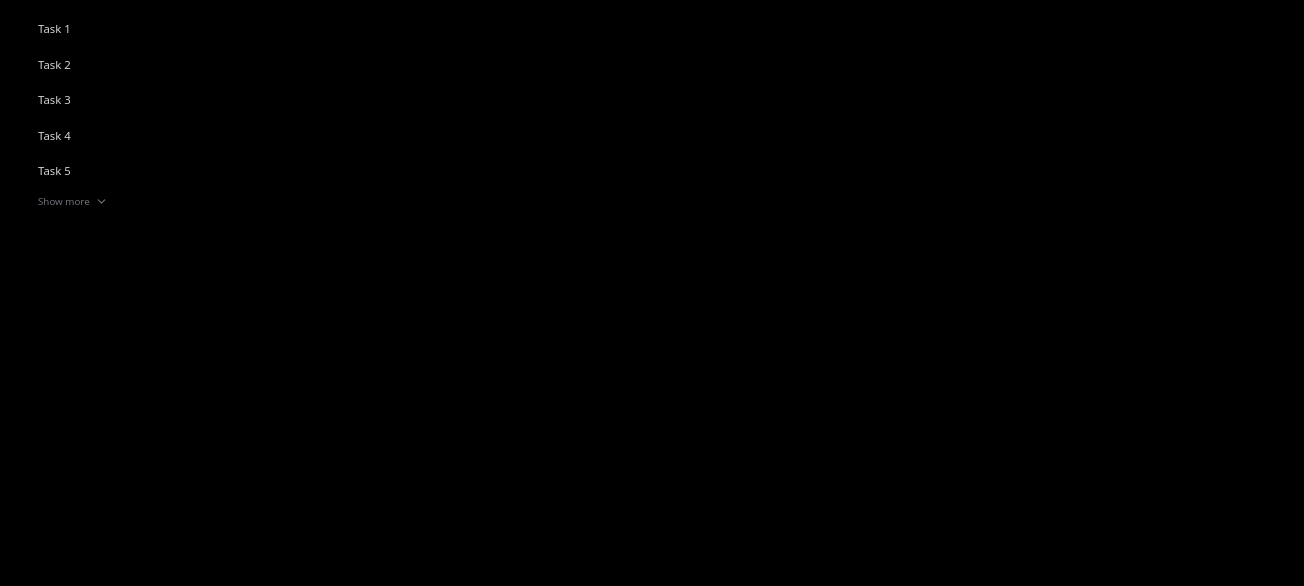
TaskList progressive loading › starts with five tasks and reveals ten more per click
Expected: the number of options is 5, x1=12 y1=12 x2=1292 y2=46; x1=12 y1=48 x2=1292 y2=82; x1=12 y1=83 x2=1292 y2=117; x1=12 y1=119 x2=1292 y2=153; x1=12 y1=154 x2=1292 y2=188
Step 1. Click the button "Show more" → [63, 202], box x1=12 y1=190 x2=114 y2=213
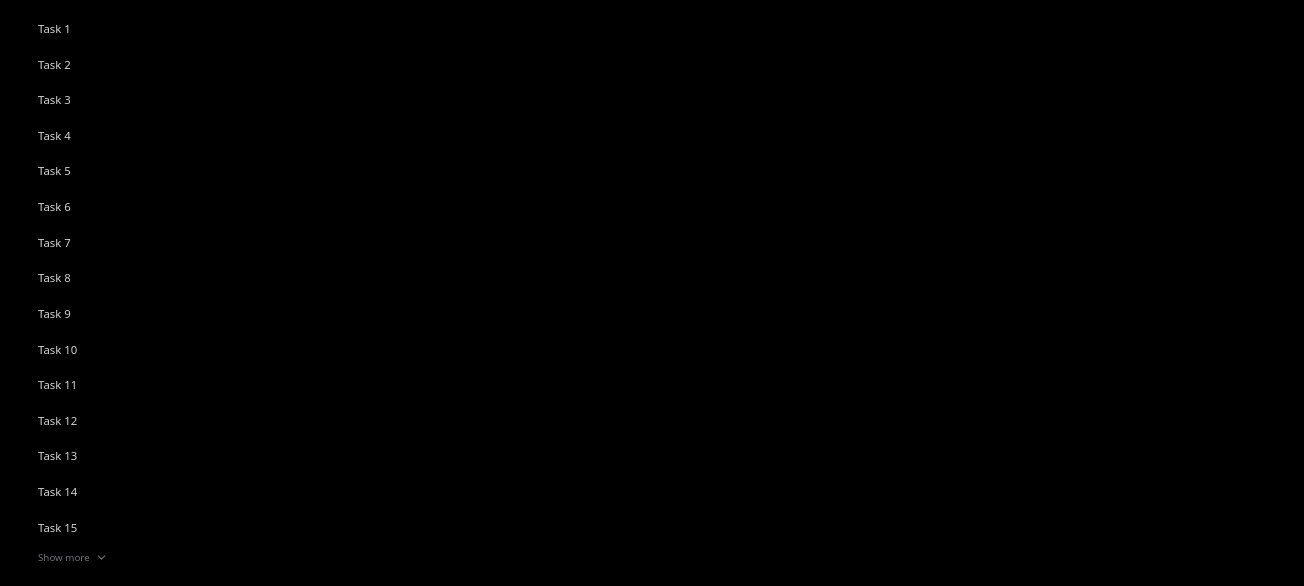
Now the number of options is 15
Step 2. Click the button "Show more" → [63, 558], box x1=12 y1=546 x2=114 y2=569
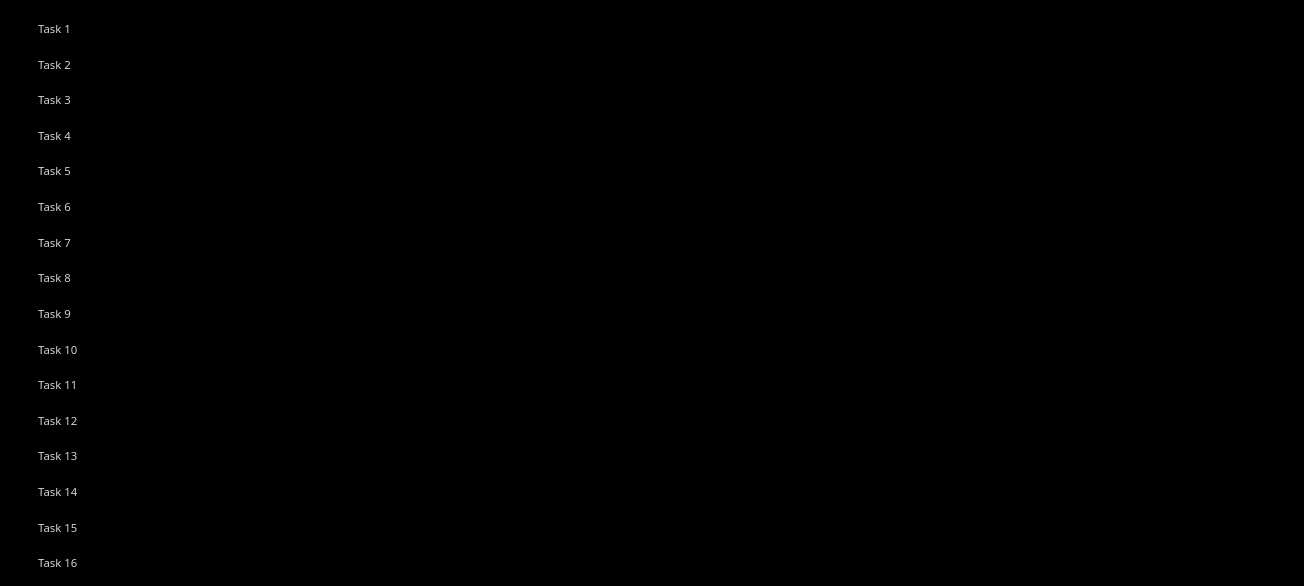
Now the button "Show more" is gone
